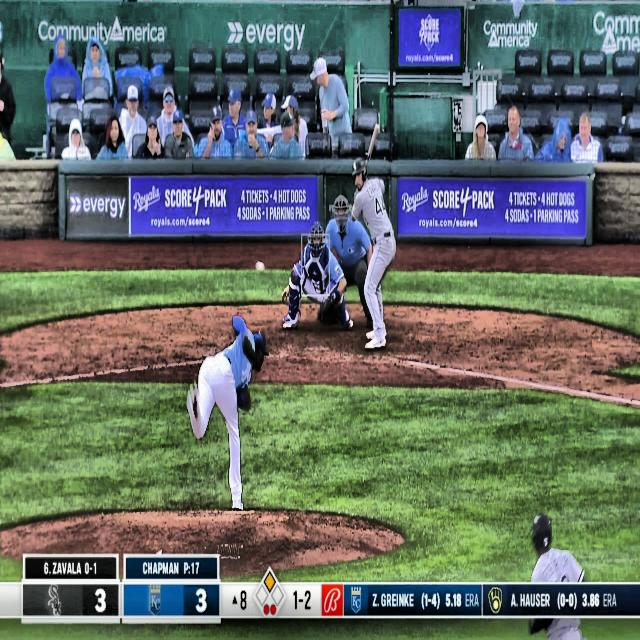baseball: (255, 261, 265, 273)
